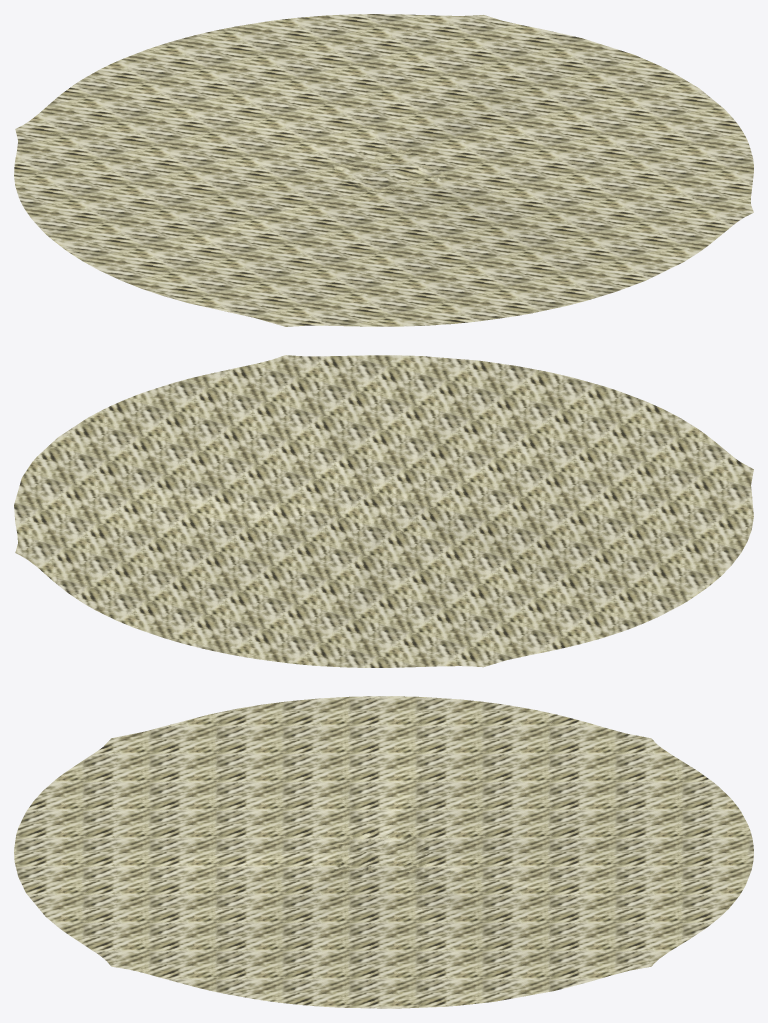
File: ENVO_Sahara.obj
3 renders of one model, top to bottom at view 1: azimuth 30°, elevation 25°; view 2: azimuth 150°, elevation 25°; view 3: azimuth 270°, elevation 25°, orthographic.
Visible parts, largest first — view 1: Sahara; view 2: Sahara; view 3: Sahara.
Part boxes in pixels (x1,y1,x2,y2): Sahara: [14, 14, 753, 326]; Sahara: [14, 355, 753, 667]; Sahara: [14, 696, 753, 1008].
Size of what is drawn, in the model's own units: 55542 by 278 by 55553.
1 material, 1 textured.
